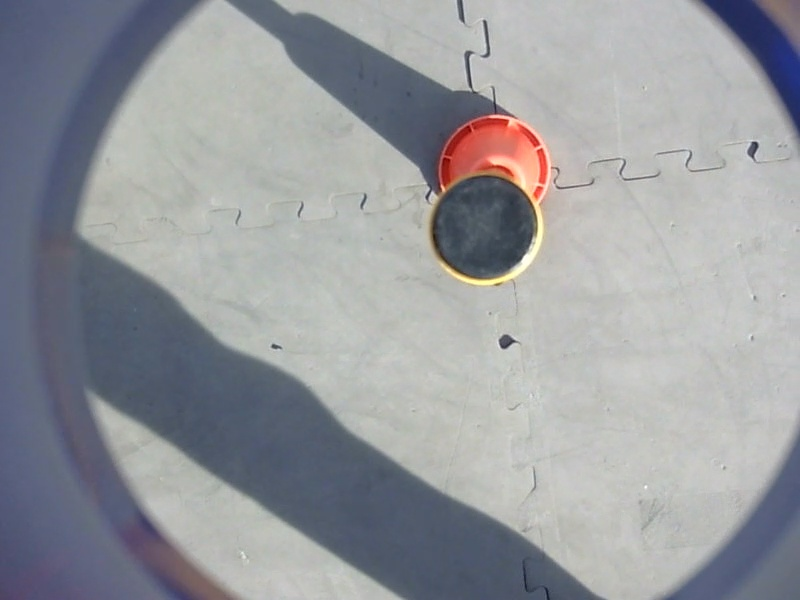tip: (421, 168, 548, 292)
